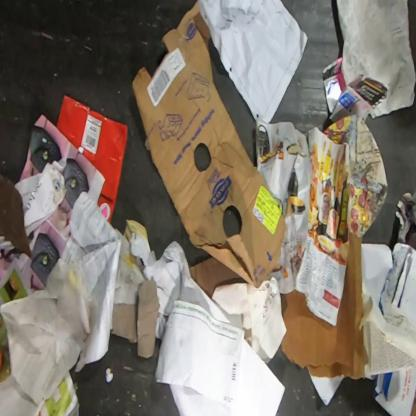cardboard: (132, 0, 286, 289), (280, 233, 368, 381), (56, 94, 128, 225), (111, 277, 160, 358), (0, 172, 31, 258), (190, 257, 249, 298)
